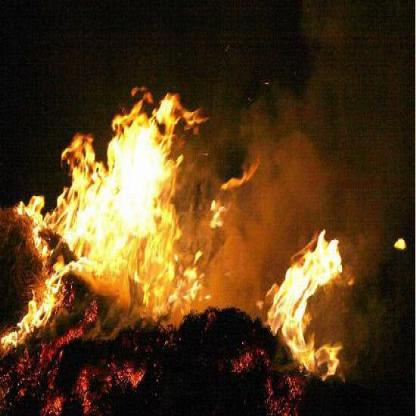fire: (6, 71, 202, 341), (260, 213, 347, 379)
